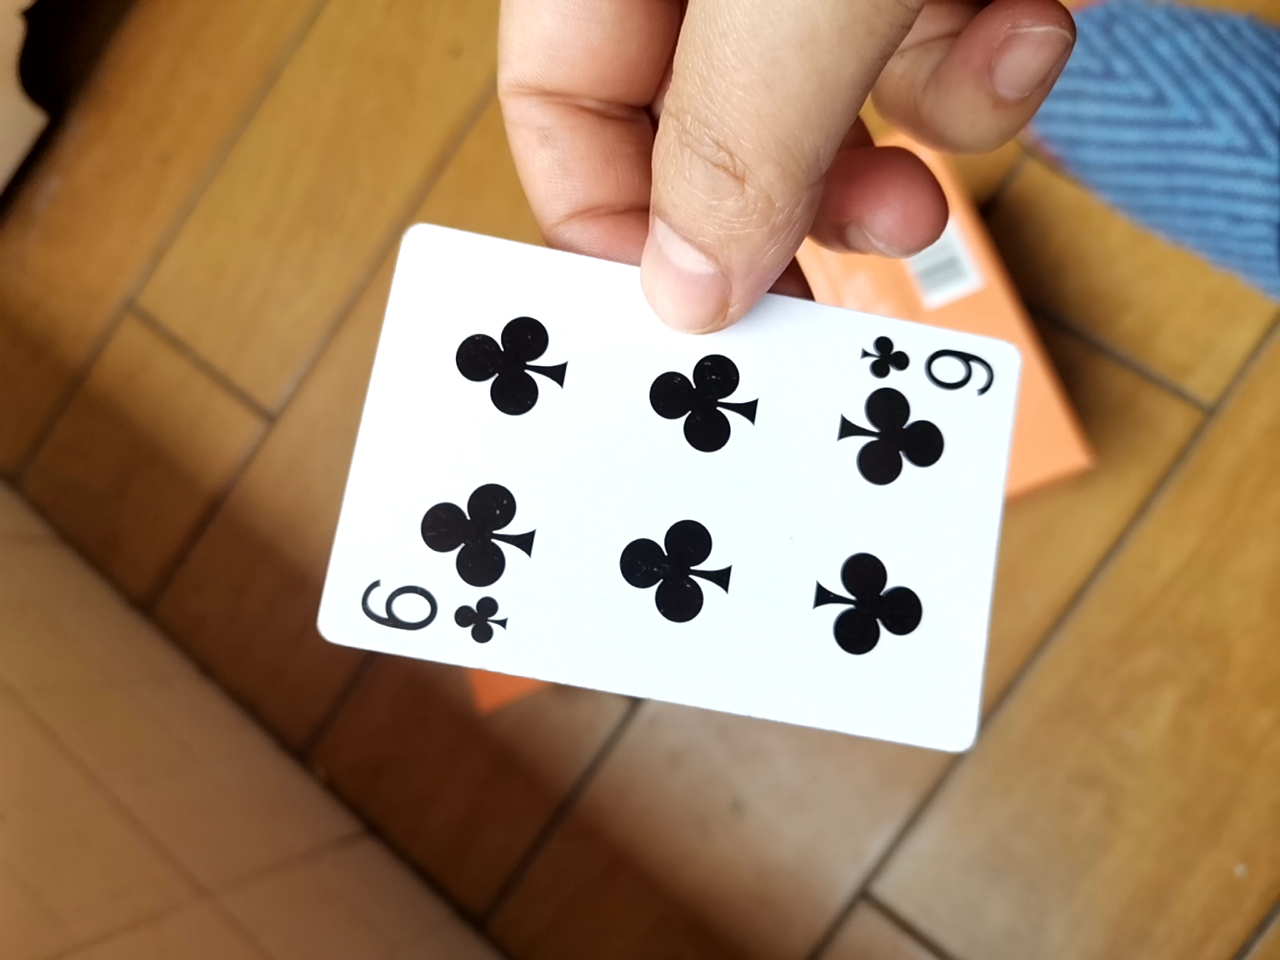mh 6: (305, 239, 1021, 753)
